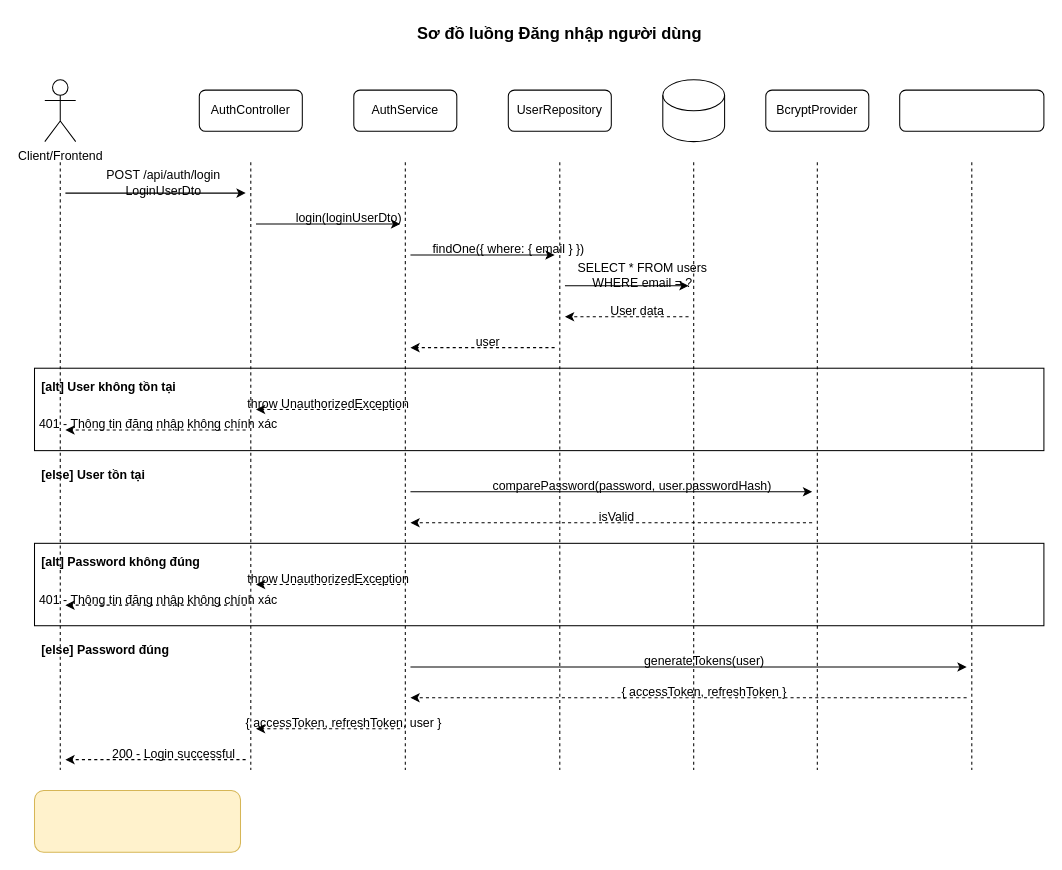
The diagram is 1062 pixels wide and 870 high, and some of its shapes have lost their labels. The shapes that lost their labels are listed below. From the top down, each one's centre as x and y in pixels, then its label:
At [693,110]: "Database".
At [971,110]: "GenerateTokensProvider".
At [137,820]: "Note: JWT Tokens - Access Token: 15 phút - Refresh Token: 7 ngày".
